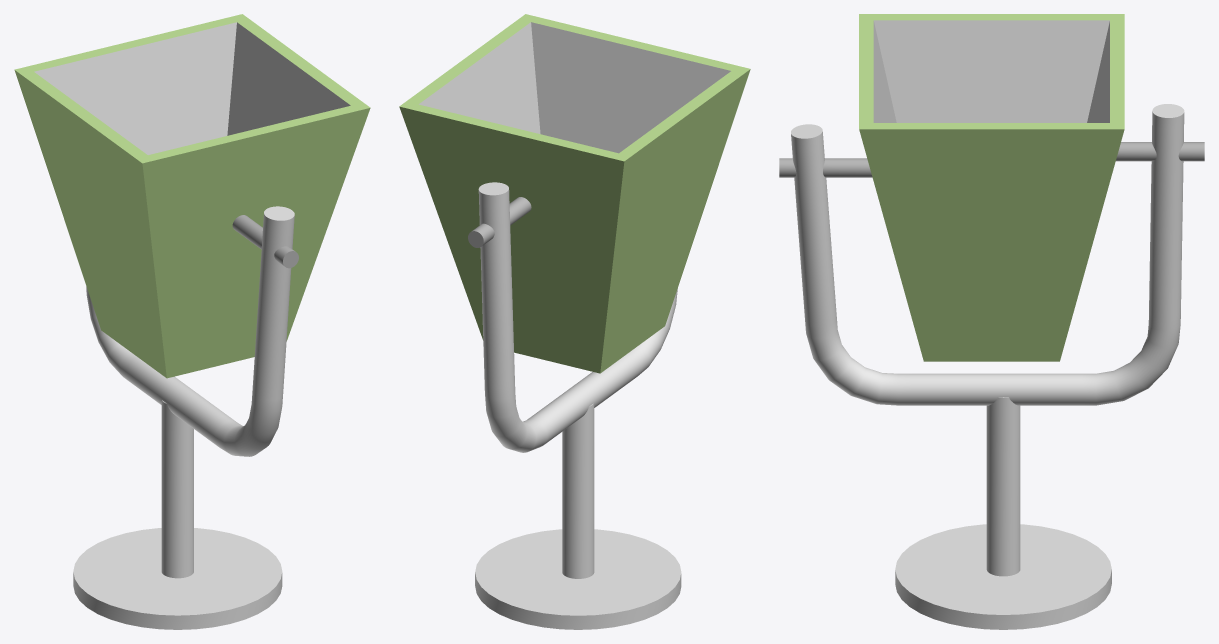
Rendered from props26.fbx.
The picture shows the model from 3 angles, left to right: view 1: azimuth 30°, elevation 25°; view 2: azimuth 150°, elevation 25°; view 3: azimuth 270°, elevation 25°; orthographic projection. The views are drawn at different scales.
Visible parts, largest first — view 1: Cylinder_4; view 2: Cylinder_4; view 3: Cylinder_4.
Part boxes in pixels (x1,y1,x2,y2): Cylinder_4: (14,14,370,629); Cylinder_4: (399,14,750,629); Cylinder_4: (779,14,1204,629).
Size of the model in its own units: 55.66 by 116 by 86.66.
